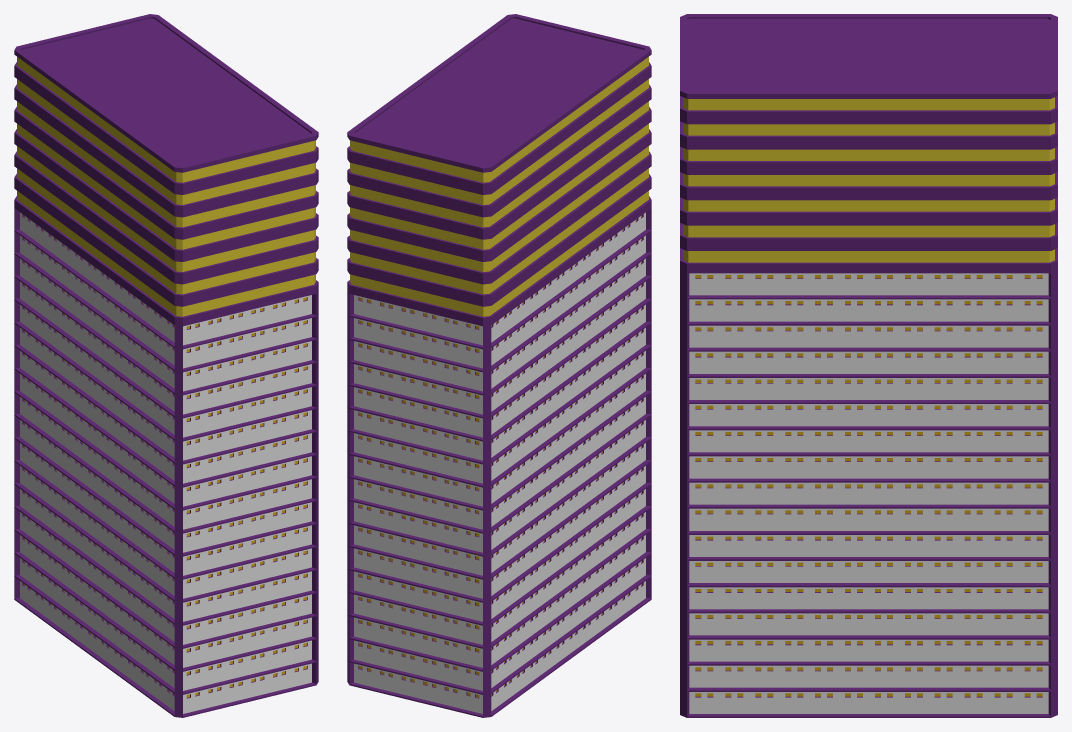
The model's file is skyscraper3.fbx.
The picture shows the model from 3 angles, left to right: view 1: azimuth 30°, elevation 25°; view 2: azimuth 150°, elevation 25°; view 3: azimuth 270°, elevation 25°; orthographic projection. The views are drawn at different scales.
Parts seen in each view (by area): view 1: Skyscraper3; view 2: Skyscraper3; view 3: Skyscraper3.
Boxes of the visible parts, x1,y1,x2,y2 form: Skyscraper3: (14,14,318,717); Skyscraper3: (347,14,651,717); Skyscraper3: (680,14,1057,717).
Bounding box in the file's own units: 2700 × 9842 × 5400.
